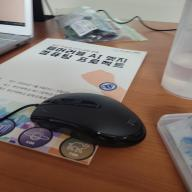mouse: (30, 70, 159, 156)
